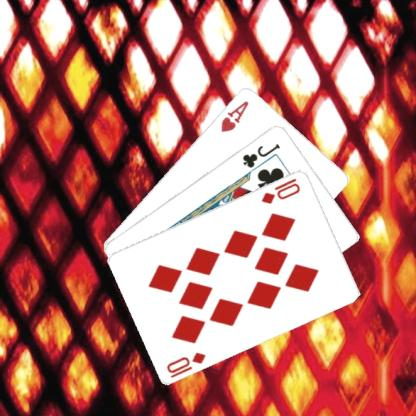10D: (258, 175, 302, 205), (164, 349, 207, 379)
AH: (218, 97, 250, 134)
JC: (240, 140, 282, 169)
